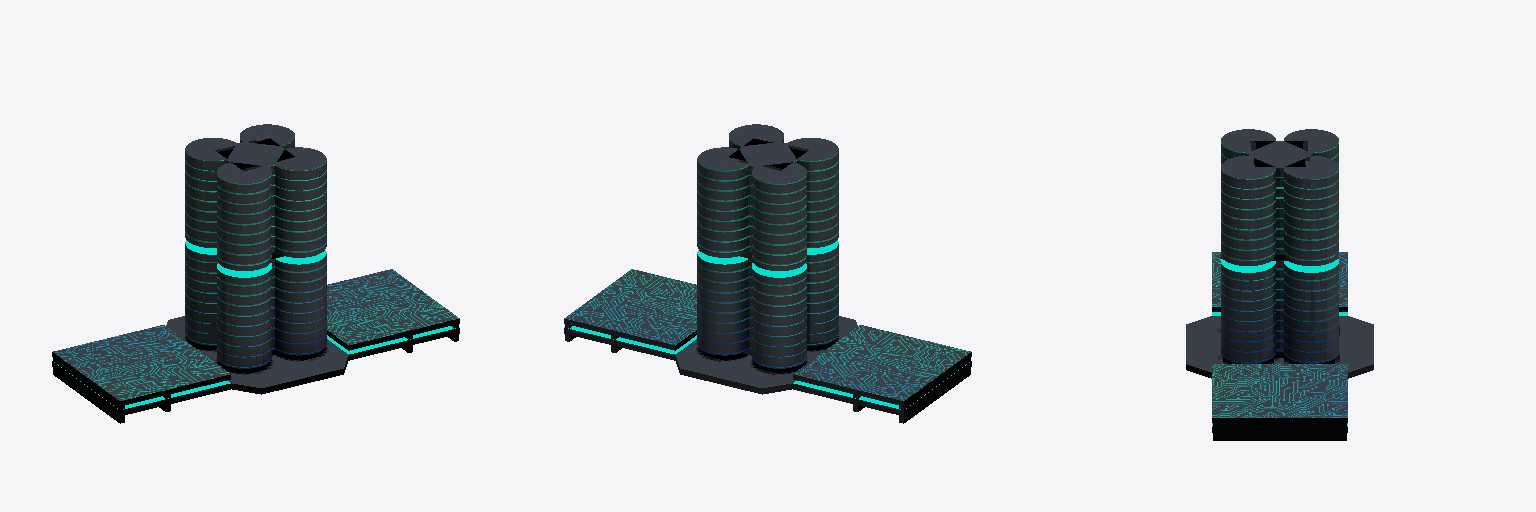
3 renders of one model, left to right at view 1: azimuth 30°, elevation 25°; view 2: azimuth 150°, elevation 25°; view 3: azimuth 270°, elevation 25°, orthographic.
Parts seen in each view (by area): view 1: Cube_Cube.001; view 2: Cube_Cube.001; view 3: Cube_Cube.001.
Boxes of the visible parts, x1=… form: Cube_Cube.001: x1=52, y1=124, x2=459, y2=423; Cube_Cube.001: x1=564, y1=124, x2=971, y2=423; Cube_Cube.001: x1=1186, y1=129, x2=1373, y2=440.
Bounding box in the file's own units: 148 × 84.74 × 70.62.
4 materials, 1 textured.